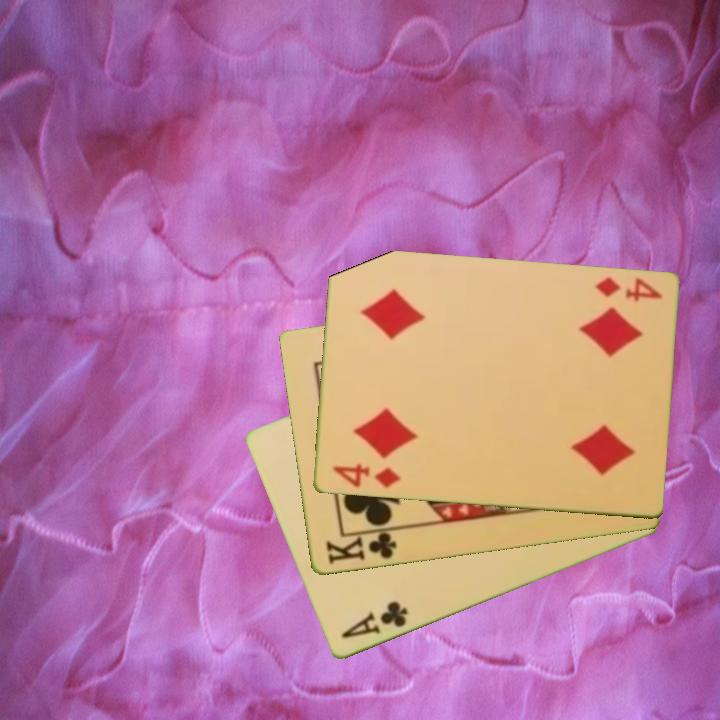4d: (591, 273, 665, 305), (328, 460, 402, 491)
Ac: (337, 598, 410, 642)
Kc: (322, 526, 401, 568)
